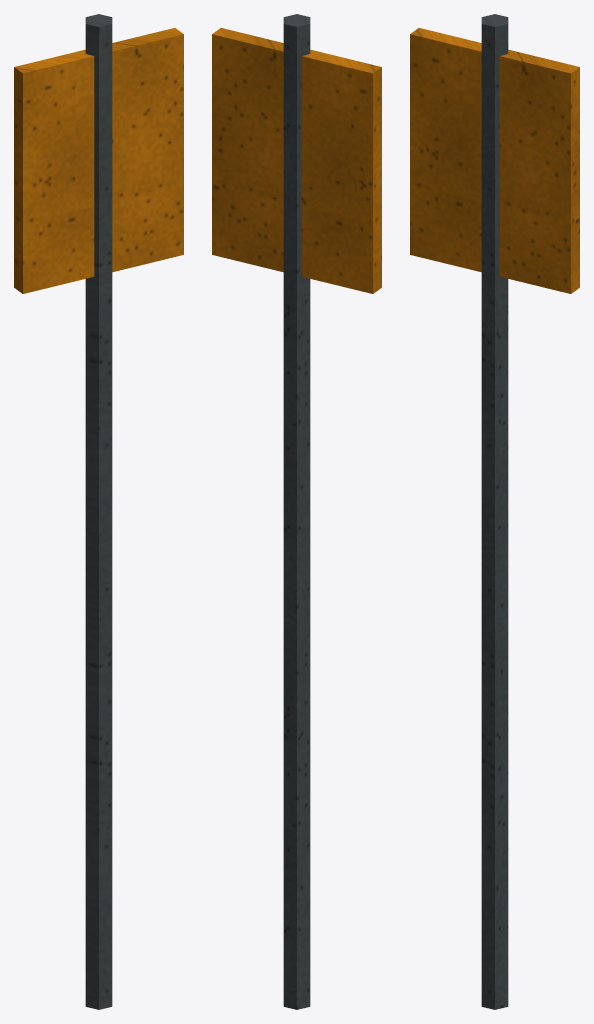
The model's file is PROP-2EFBB56C7E2A_lod2.glb.
The picture shows the model from 3 angles, left to right: view 1: azimuth 30°, elevation 25°; view 2: azimuth 150°, elevation 25°; view 3: azimuth 330°, elevation 25°; orthographic projection.
Parts seen in each view (by area): view 1: sign_plate.002, sign_post.002; view 2: sign_plate.002, sign_post.002; view 3: sign_plate.002, sign_post.002.
Boxes of the visible parts, bbox=[...] form: sign_plate.002: bbox=[14, 28, 183, 293]; sign_post.002: bbox=[85, 14, 112, 1009]; sign_plate.002: bbox=[212, 28, 381, 293]; sign_post.002: bbox=[283, 14, 310, 1009]; sign_plate.002: bbox=[410, 28, 579, 293]; sign_post.002: bbox=[481, 14, 508, 1009].
Size of the model in its own units: 0.42 by 2.45 by 0.0606.
Materials: 2 (2 with a texture image).
